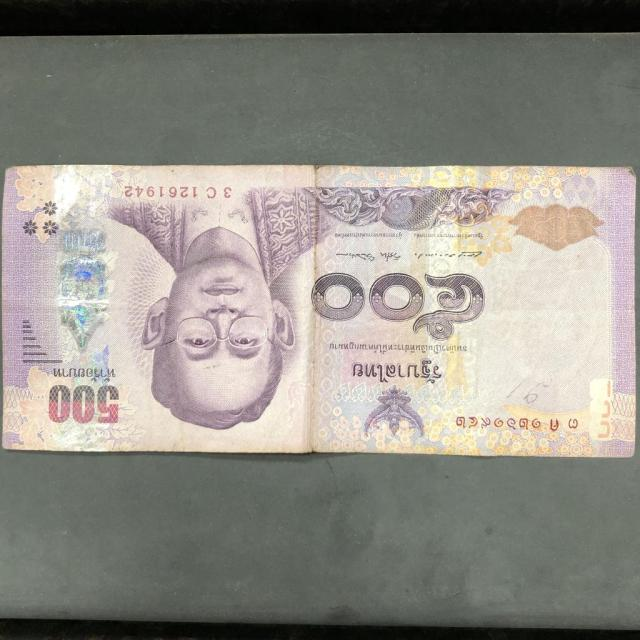THAI500: (2, 164, 636, 458)
